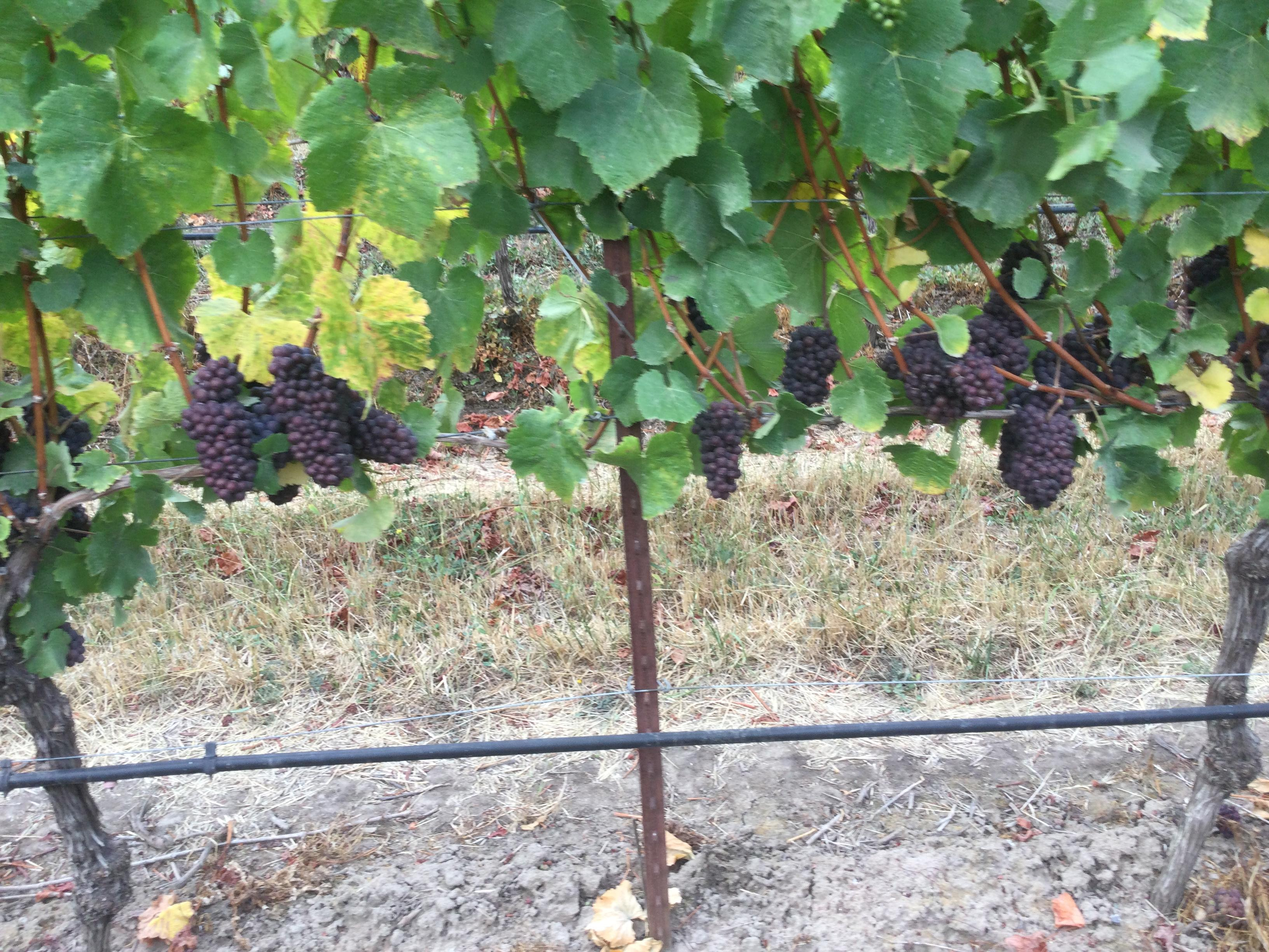leaf: (37, 86, 214, 254), (823, 0, 994, 168), (299, 79, 477, 238), (558, 46, 700, 192), (1163, 0, 1268, 143), (942, 100, 1061, 225), (313, 270, 430, 391), (493, 0, 616, 109), (509, 97, 603, 201), (398, 258, 484, 371), (194, 296, 307, 382), (691, 0, 801, 82), (1044, 0, 1157, 79), (77, 247, 161, 353), (693, 243, 791, 330), (595, 431, 690, 518), (534, 275, 609, 380), (506, 405, 588, 501), (142, 15, 219, 102), (667, 138, 750, 218), (1078, 42, 1162, 120), (770, 208, 827, 317), (328, 0, 442, 54), (86, 513, 158, 598), (1096, 441, 1181, 511), (141, 232, 198, 334), (662, 177, 728, 263), (219, 21, 278, 109), (829, 358, 892, 432), (750, 392, 822, 454), (209, 227, 276, 286), (635, 368, 705, 423), (731, 309, 784, 381), (883, 443, 957, 494), (962, 0, 1028, 57), (1109, 301, 1175, 356), (468, 178, 530, 236), (599, 355, 650, 425), (1061, 242, 1110, 314), (1168, 360, 1233, 410), (212, 121, 269, 176), (828, 289, 870, 360), (15, 0, 102, 32), (30, 264, 83, 312), (1148, 0, 1211, 40), (578, 190, 629, 239), (21, 627, 69, 677), (399, 401, 440, 457), (0, 216, 40, 273), (589, 268, 628, 306), (795, 15, 831, 26), (796, 3, 804, 7), (817, 2, 825, 6), (44, 308, 60, 309), (621, 47, 626, 50), (905, 176, 910, 179), (1108, 4, 1114, 6), (801, 30, 806, 32), (366, 0, 374, 1), (836, 4, 839, 6), (247, 26, 249, 29), (992, 0, 994, 2), (1088, 0, 1091, 1), (455, 105, 456, 108), (112, 510, 113, 511), (376, 4, 377, 4), (243, 24, 246, 24)
